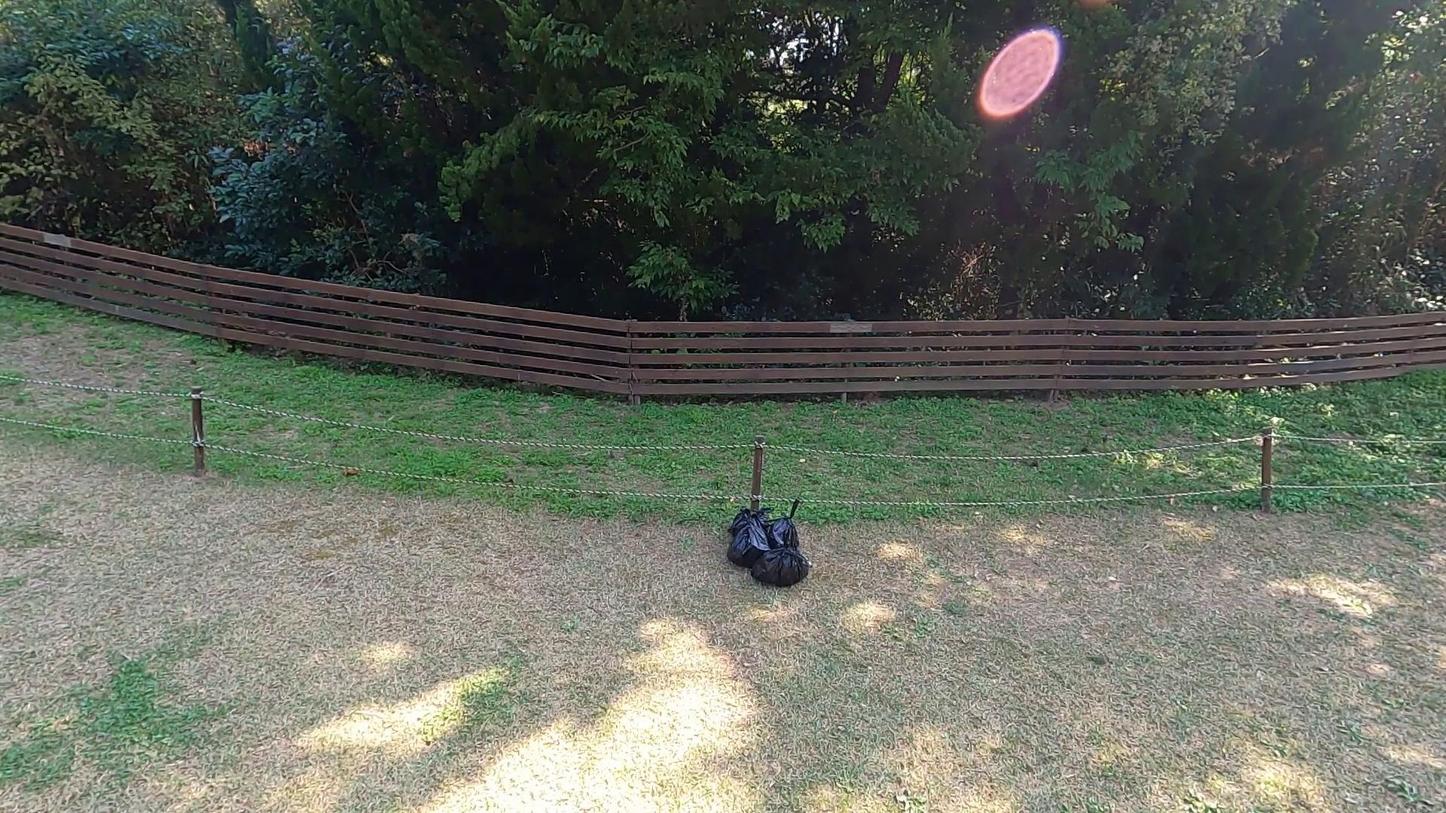trash: (761, 499, 812, 566), (748, 533, 811, 587), (724, 508, 770, 566), (732, 507, 774, 539)
